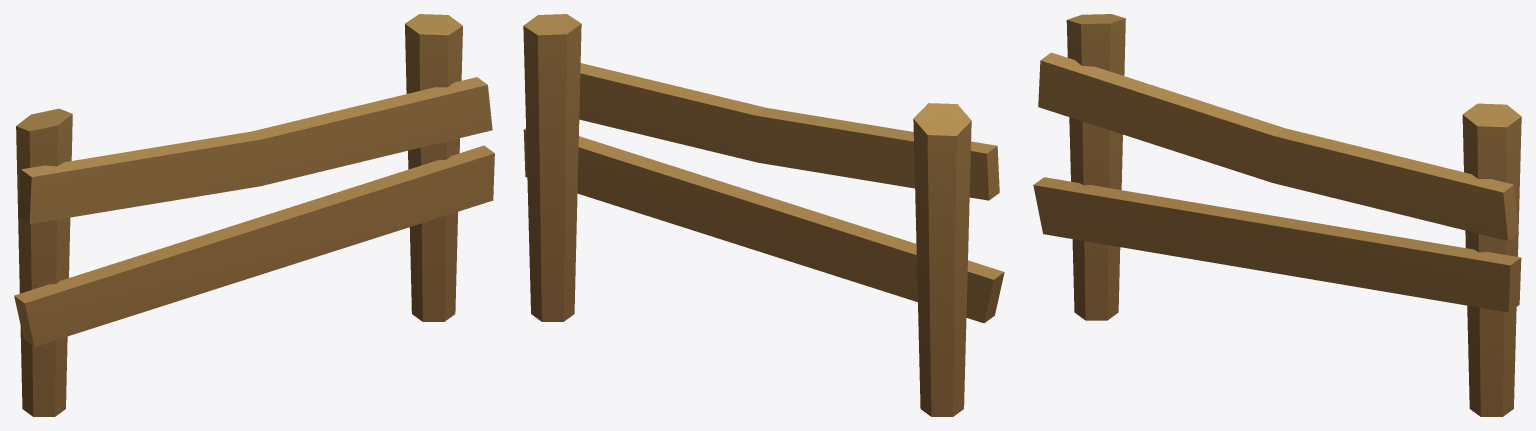
File: Wood_Fences_01.fbx
3 renders of one model, left to right at view 1: azimuth 30°, elevation 25°; view 2: azimuth 150°, elevation 25°; view 3: azimuth 330°, elevation 25°, orthographic.
Parts seen in each view (by area): view 1: Wood_Fences_01; view 2: Wood_Fences_01; view 3: Wood_Fences_01.
Part boxes in pixels (box(x1,y1,x2,y2)): Wood_Fences_01: box(14, 14, 494, 416); Wood_Fences_01: box(523, 14, 1004, 416); Wood_Fences_01: box(1033, 14, 1521, 416).
Bounding box in the file's own units: 178 × 107 × 23.58.
